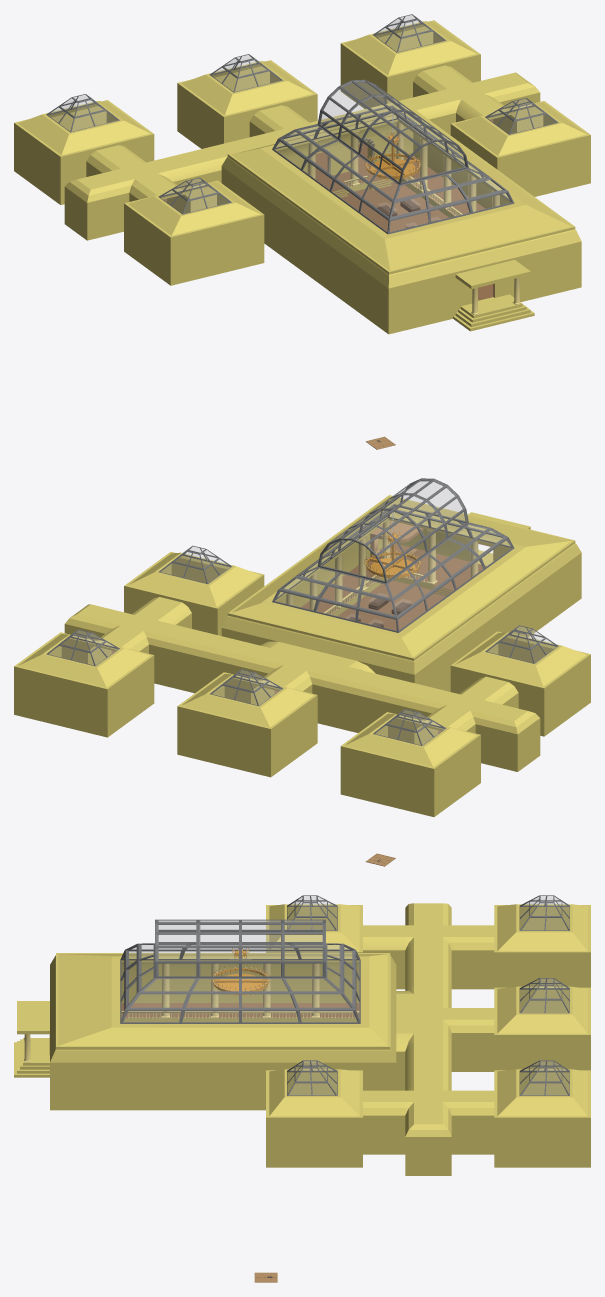
File: museum.fbx
3 views of the same model, one above another, from view 1: azimuth 30°, elevation 25°; view 2: azimuth 150°, elevation 25°; view 3: azimuth 270°, elevation 25° (orthographic). The views are drawn at different scales.
Parts seen in each view (by area): view 1: Museum, Roof, Chandelier; view 2: Museum, Roof, Chandelier; view 3: Museum, Roof, Chandelier.
Boxes of the visible parts, x1,y1,x2,y2 form: Museum: [14, 20, 590, 334]; Roof: [46, 14, 558, 234]; Chandelier: [364, 113, 421, 180]; Museum: [14, 495, 590, 816]; Roof: [46, 478, 558, 745]; Chandelier: [364, 512, 421, 579]; Museum: [14, 903, 590, 1175]; Roof: [120, 895, 569, 1095]; Chandelier: [211, 948, 269, 996].
Bounding box in the file's own units: 84.49 × 61.09 × 89.94.
